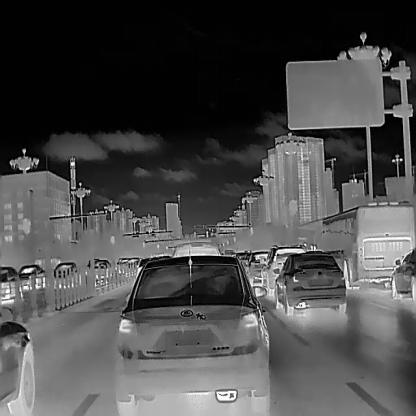bus: (318, 199, 415, 288)
car: (118, 255, 268, 414), (274, 251, 346, 315), (0, 307, 34, 415), (265, 245, 305, 290), (391, 247, 415, 299), (0, 264, 23, 304), (18, 263, 46, 292), (52, 260, 77, 288), (85, 258, 113, 282), (247, 249, 269, 278)
